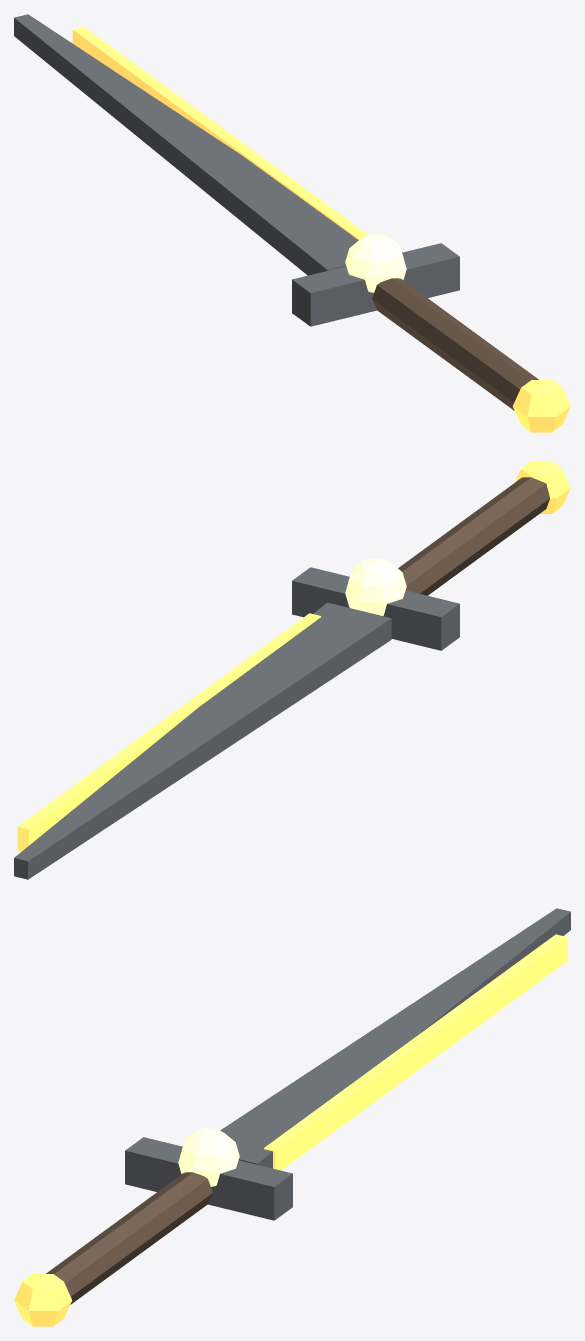
The model's file is DF_Amberheart.fbx.
3 renders of one model, top to bottom at view 1: azimuth 30°, elevation 25°; view 2: azimuth 150°, elevation 25°; view 3: azimuth 330°, elevation 25°, orthographic.
Parts seen in each view (by area): view 1: DF_Amberheart; view 2: DF_Amberheart; view 3: DF_Amberheart.
Part boxes in pixels (x1,y1,x2,y2): DF_Amberheart: [14, 14, 570, 432]; DF_Amberheart: [14, 461, 570, 879]; DF_Amberheart: [14, 908, 570, 1326].
Size of the model in its own units: 0.65 by 0.31 by 4.04.
